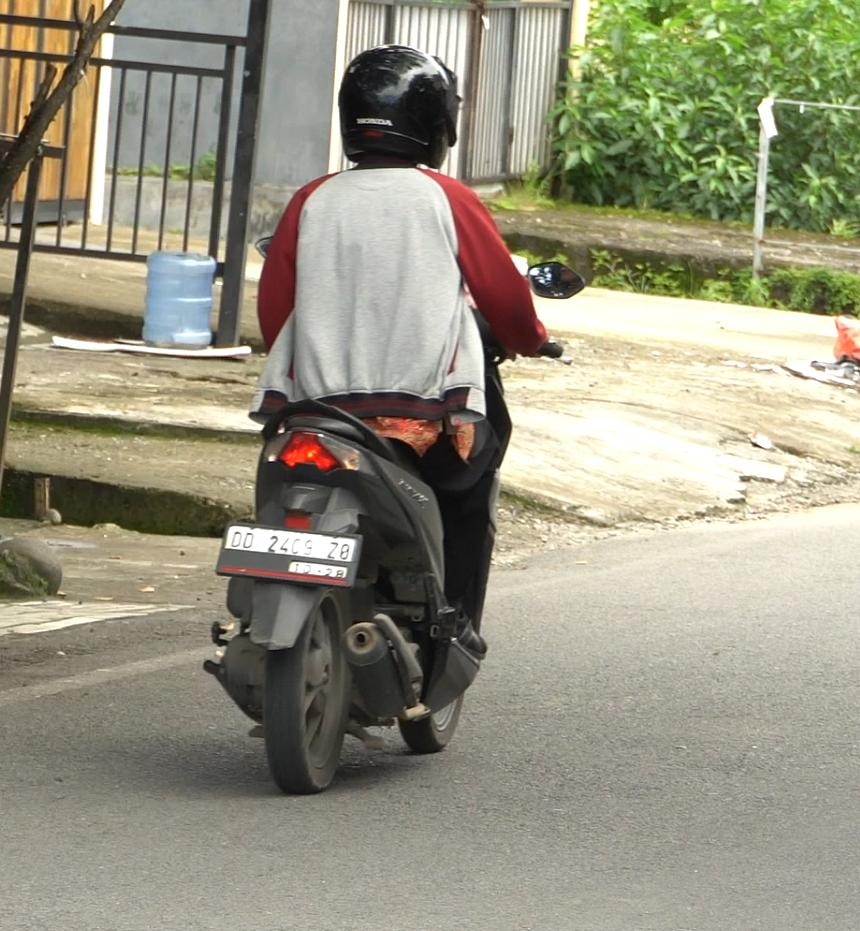number-plate: (213, 523, 367, 586)
